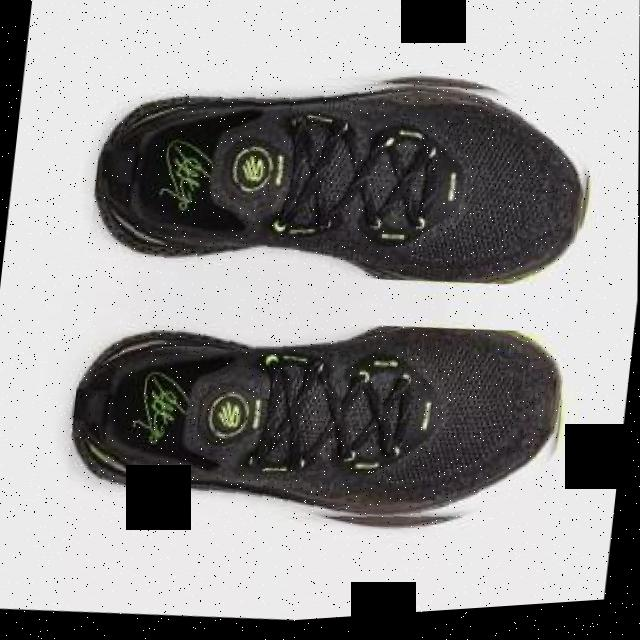shoe: (86, 39, 602, 321), (63, 289, 572, 568)
